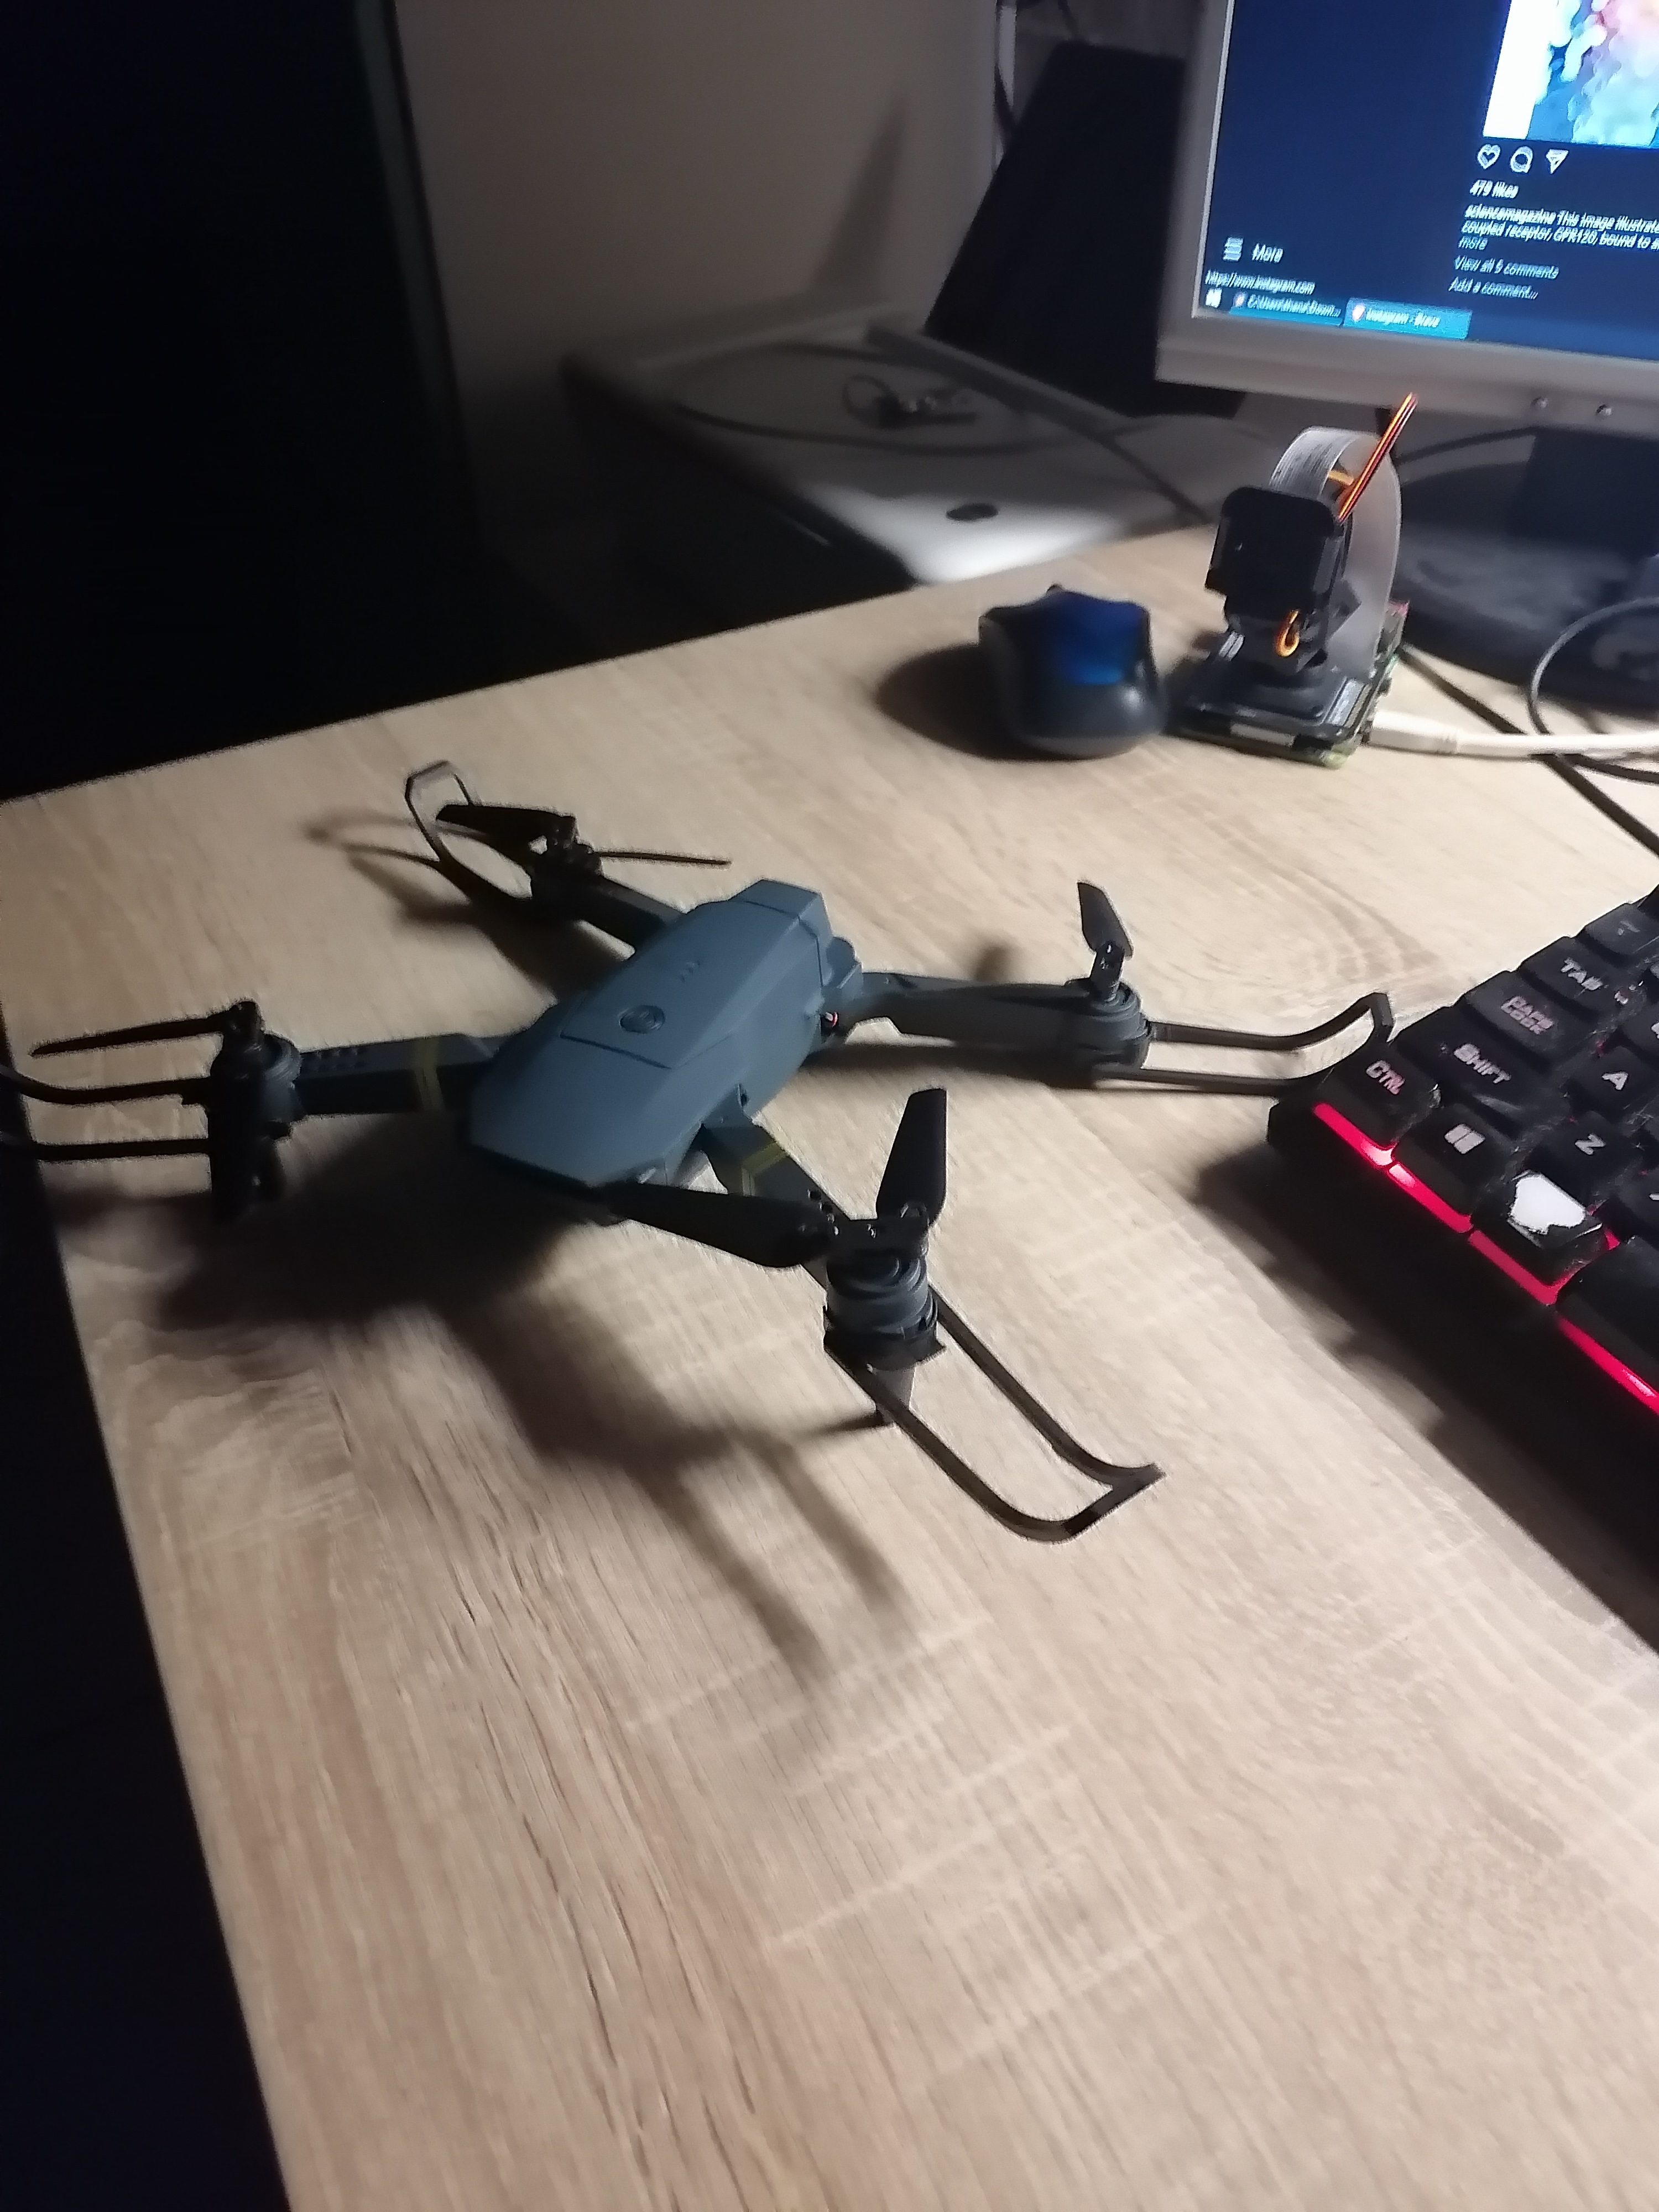drone: (275, 744, 1211, 1569)
